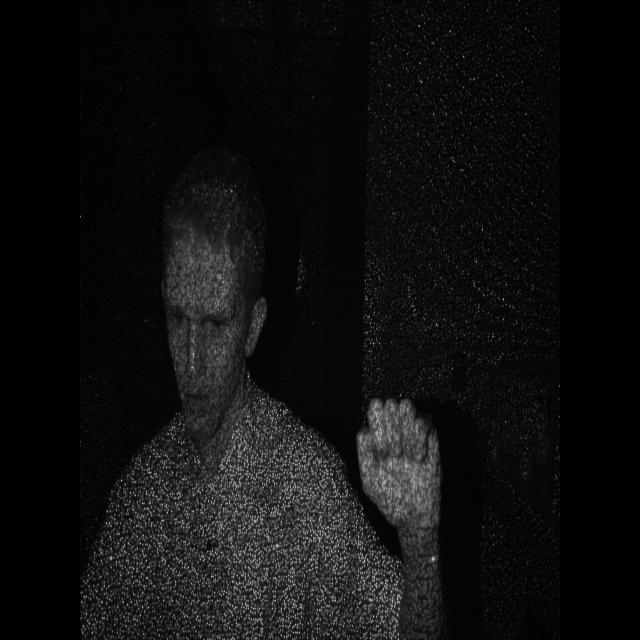M: (346, 382, 459, 545)
